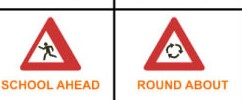Traffic signal: (140, 17, 207, 71), (19, 17, 83, 71)
